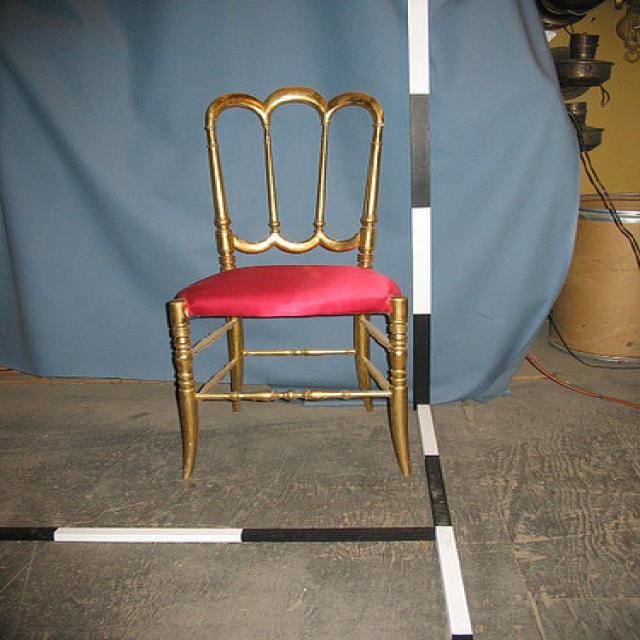chair: (166, 84, 412, 480)
